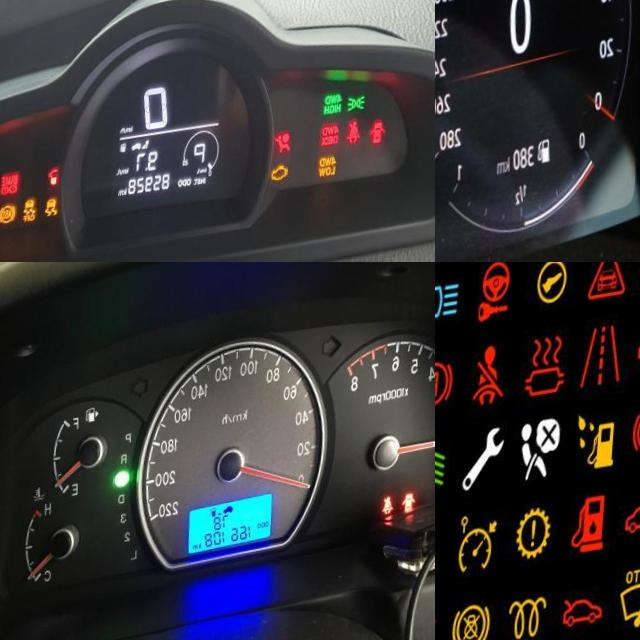Doors: (376, 139, 394, 164), (408, 507, 423, 527)
SideLamp: (353, 111, 373, 130)
